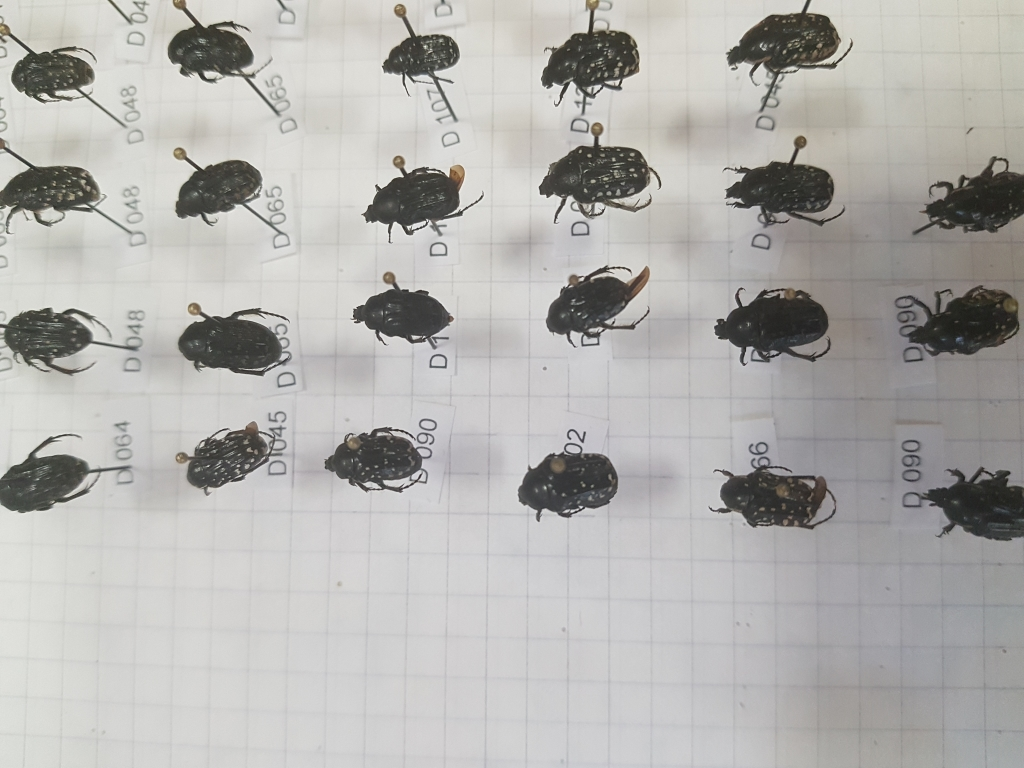Oxythyrea_cinctella: (538, 139, 662, 228), (722, 10, 860, 88), (722, 151, 848, 231), (706, 463, 840, 538), (536, 26, 643, 107), (318, 426, 431, 497), (516, 441, 623, 515)
